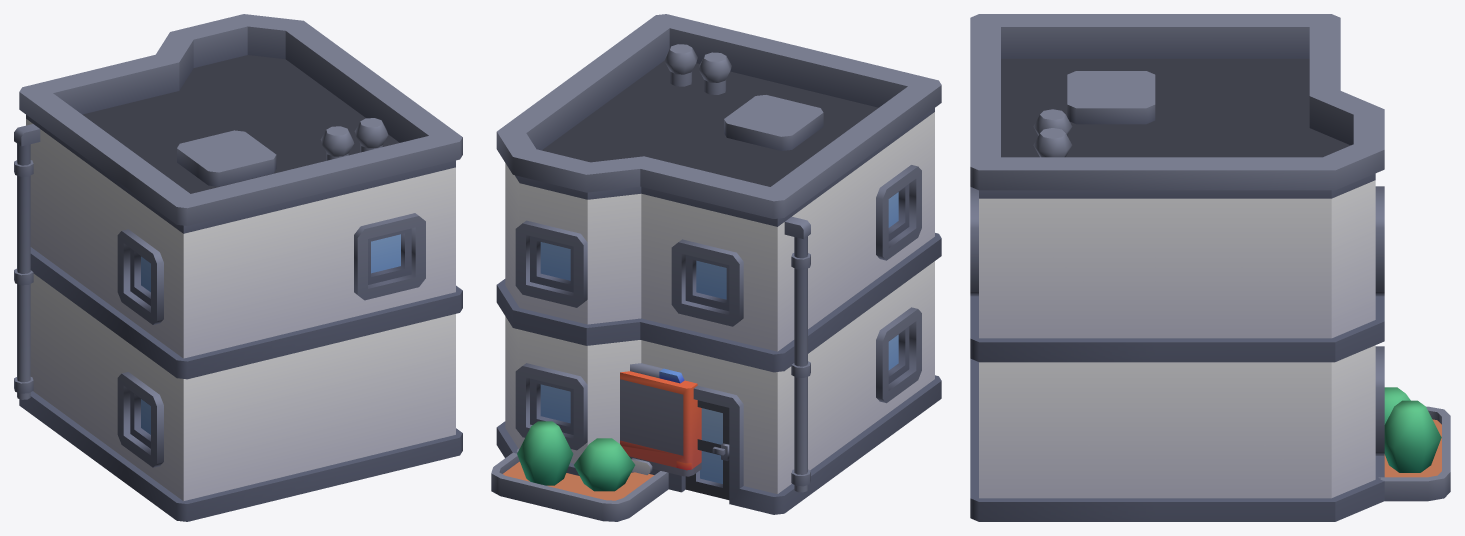
File: exterior.glb
3 views of the same model, side by side, from view 1: azimuth 30°, elevation 25°; view 2: azimuth 150°, elevation 25°; view 3: azimuth 270°, elevation 25° (orthographic). The views are drawn at different scales.
Visible parts, largest first — view 1: building-c; view 2: building-c, body; view 3: building-c.
Boxes of the visible parts, bbox=[...] form: building-c: bbox=[14, 14, 462, 521]; building-c: bbox=[491, 14, 941, 521]; body: bbox=[620, 363, 701, 476]; building-c: bbox=[970, 14, 1450, 521].
Bounding box in the file's own units: 10.88 × 11 × 13.43.
9 materials, 3 textured.
